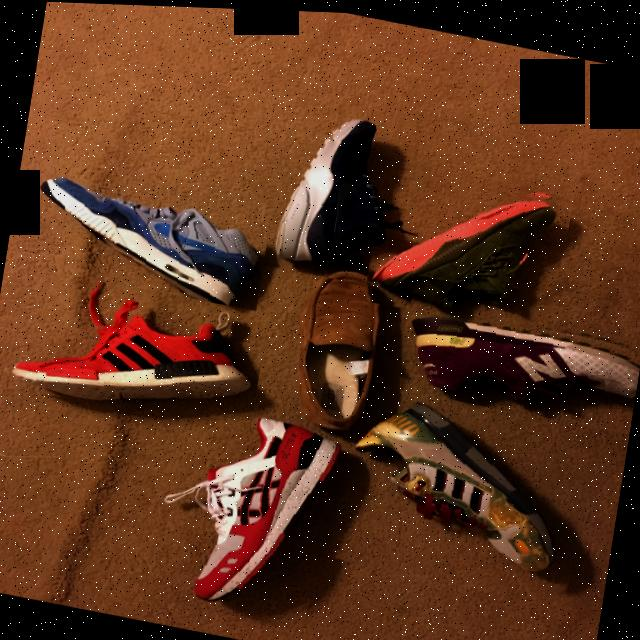shoe: (329, 384, 602, 602), (146, 388, 346, 630), (0, 263, 268, 434), (364, 154, 575, 334), (21, 161, 272, 312), (397, 289, 640, 430), (260, 92, 418, 288)
